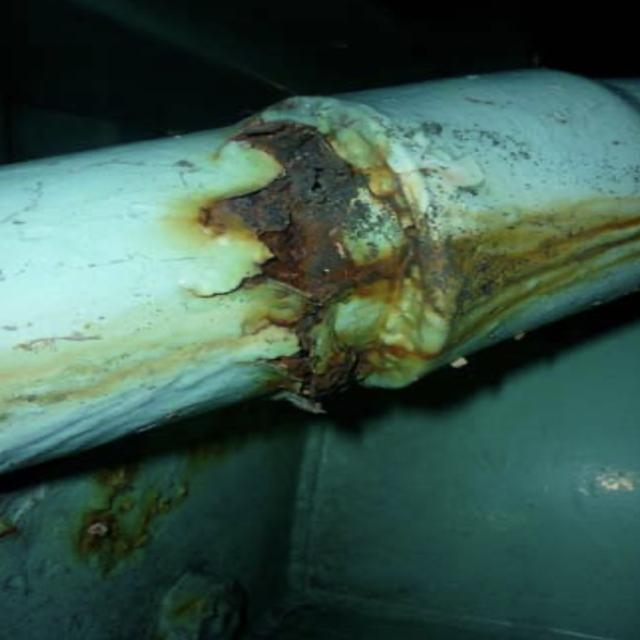corrosion: (197, 76, 464, 443)
